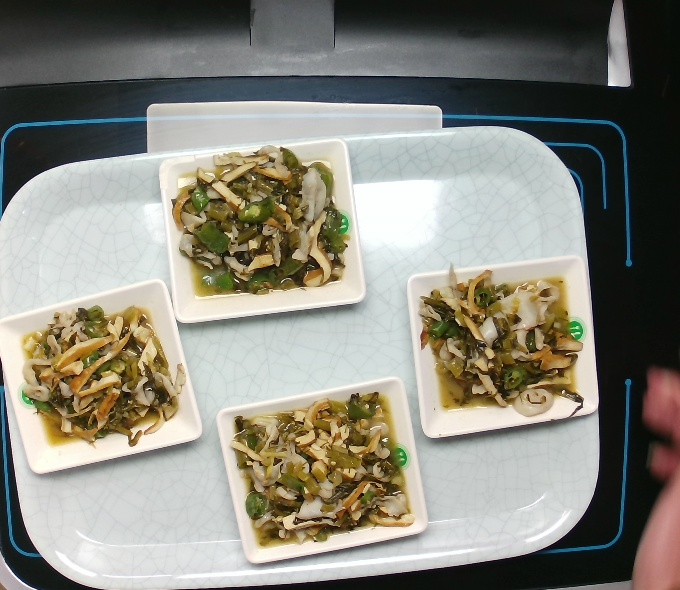wcq-YouYuXueCaiDouGan: (410, 261, 599, 434), (228, 384, 415, 552), (168, 135, 348, 299), (14, 296, 193, 459)
